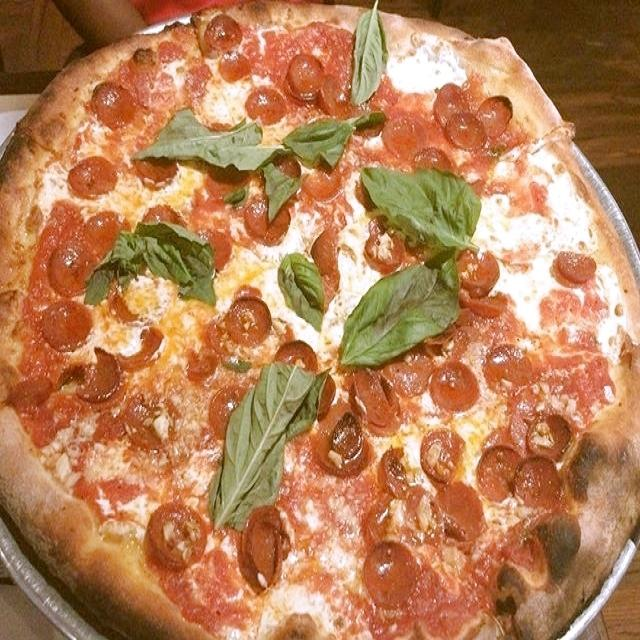pepperoni: (46, 201, 124, 292), (288, 55, 362, 123), (438, 81, 509, 150), (146, 500, 209, 570), (240, 506, 288, 587), (460, 246, 510, 322), (366, 536, 418, 608), (353, 369, 411, 432), (481, 341, 540, 399), (124, 395, 176, 458), (36, 297, 91, 355), (204, 13, 247, 84), (473, 443, 526, 499), (433, 481, 485, 538), (226, 292, 275, 352), (84, 80, 140, 132), (526, 410, 576, 466), (316, 409, 363, 467), (384, 117, 432, 172), (422, 427, 468, 483), (389, 348, 439, 399), (384, 448, 428, 504), (429, 359, 476, 411), (361, 221, 405, 272), (262, 155, 304, 208), (301, 162, 354, 204), (183, 320, 220, 380), (516, 457, 558, 507), (68, 154, 114, 199), (210, 379, 245, 438), (252, 196, 293, 245), (121, 327, 163, 374), (85, 348, 121, 401), (244, 86, 291, 125), (132, 146, 174, 189), (412, 146, 454, 180), (277, 334, 314, 372), (557, 252, 598, 286)
pizza: (0, 0, 640, 640)
